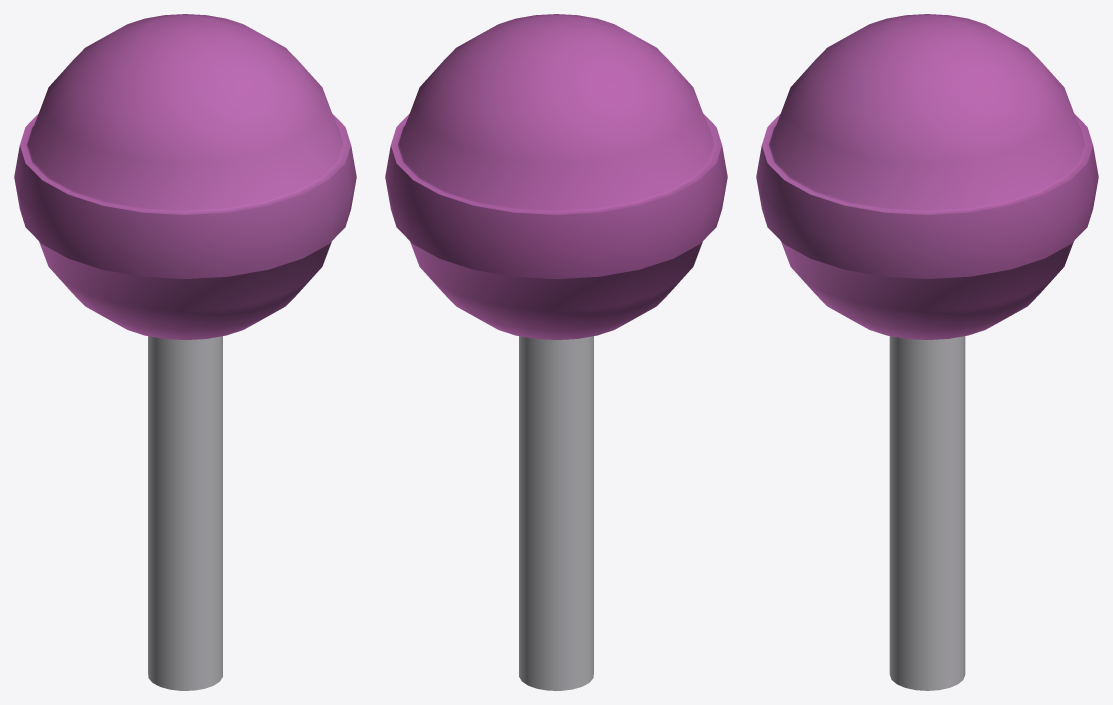
The model's file is Candy_2.fbx.
3 views of the same model, side by side, from view 1: azimuth 30°, elevation 25°; view 2: azimuth 150°, elevation 25°; view 3: azimuth 270°, elevation 25° (orthographic).
Parts seen in each view (by area): view 1: Candy_2; view 2: Candy_2; view 3: Candy_2.
Part boxes in pixels (x1,y1,x2,y2): Candy_2: (14,14,356,690); Candy_2: (385,14,727,690); Candy_2: (756,14,1098,690).
Size of the model in its own units: 219 by 455 by 219.
